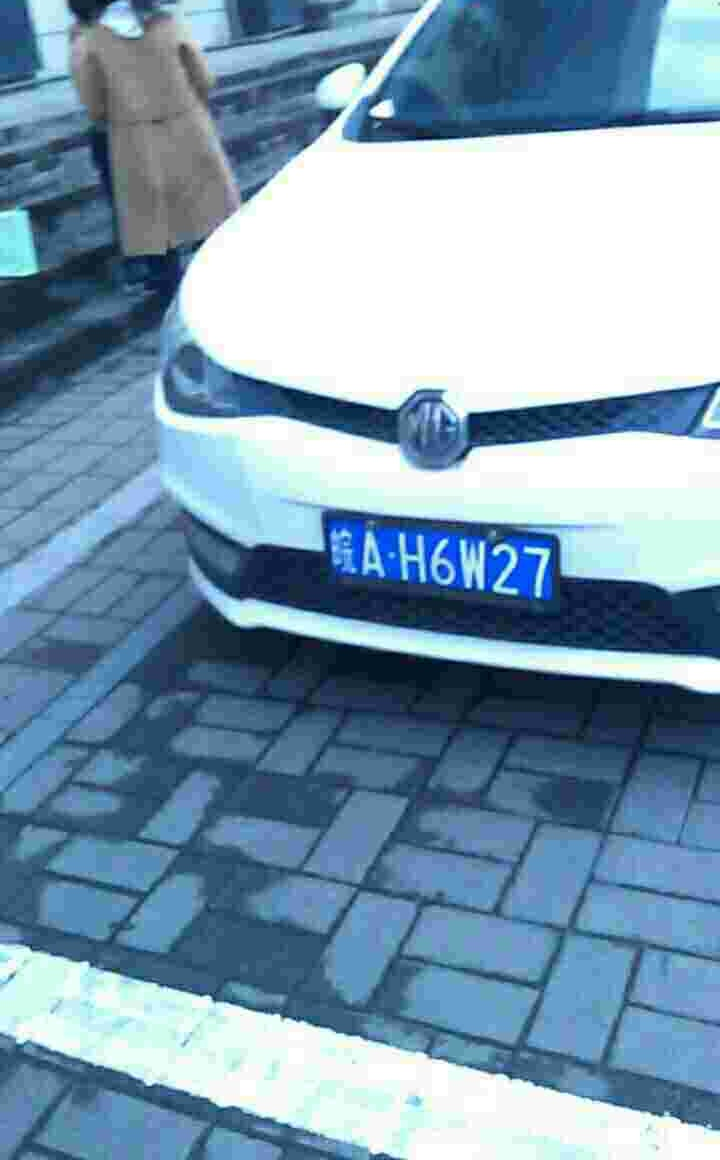license_plate: (321, 521, 563, 598)
